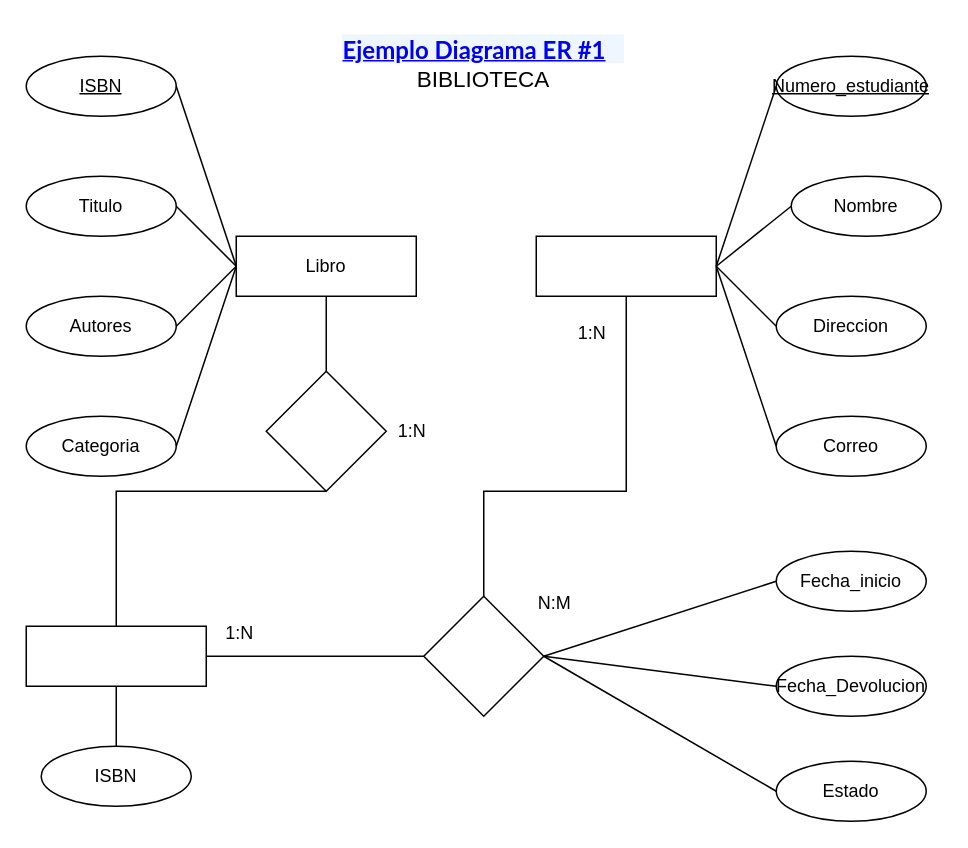
Some shapes in this 968 by 848 pixel diagram are drawn without their labels. The box of each missing label's shape, as (x1, y1, x2, y2) in pixels:
Copia_Libro: (25, 625, 206, 686)
Prestamo: (422, 595, 544, 716)
TieneCopia: (265, 370, 386, 491)
Usuario: (535, 235, 716, 296)
